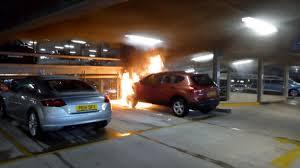fire: (111, 49, 192, 118)
